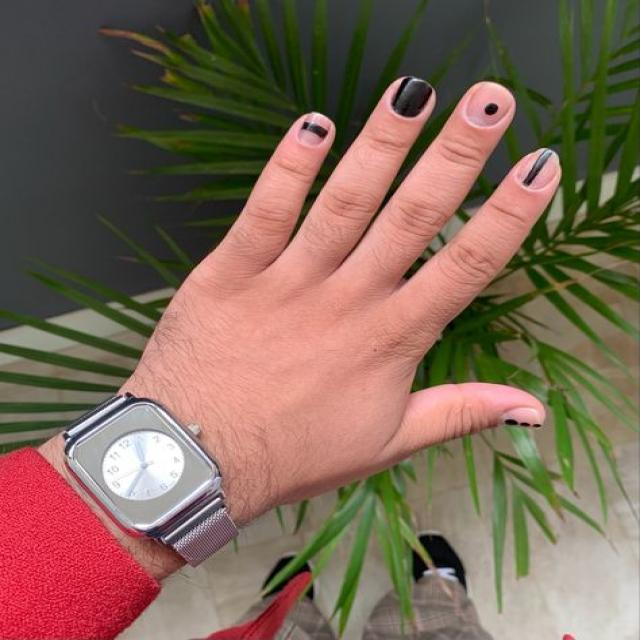Fingernail: (465, 82, 514, 128), (516, 149, 559, 190), (392, 77, 432, 118), (298, 113, 331, 148), (500, 408, 543, 427)
